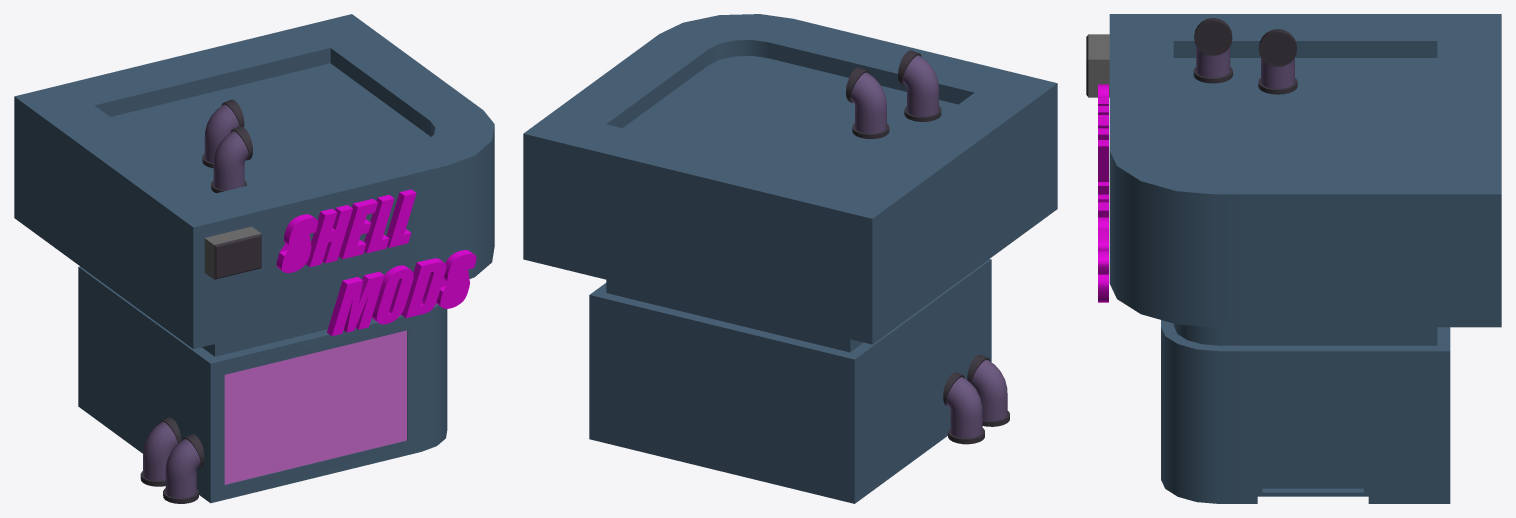
The model's file is House7.fbx.
3 views of the same model, side by side, from view 1: azimuth 30°, elevation 25°; view 2: azimuth 150°, elevation 25°; view 3: azimuth 270°, elevation 25° (orthographic). The views are drawn at different scales.
Parts seen in each view (by area): view 1: House_R_7; view 2: House_R_7; view 3: House_R_7.
Boxes of the visible parts, x1=… form: House_R_7: x1=14, y1=14, x2=494, y2=503; House_R_7: x1=523, y1=14, x2=1057, y2=503; House_R_7: x1=1086, y1=14, x2=1501, y2=503.
Size of the model in its own units: 862 by 841 by 840.
